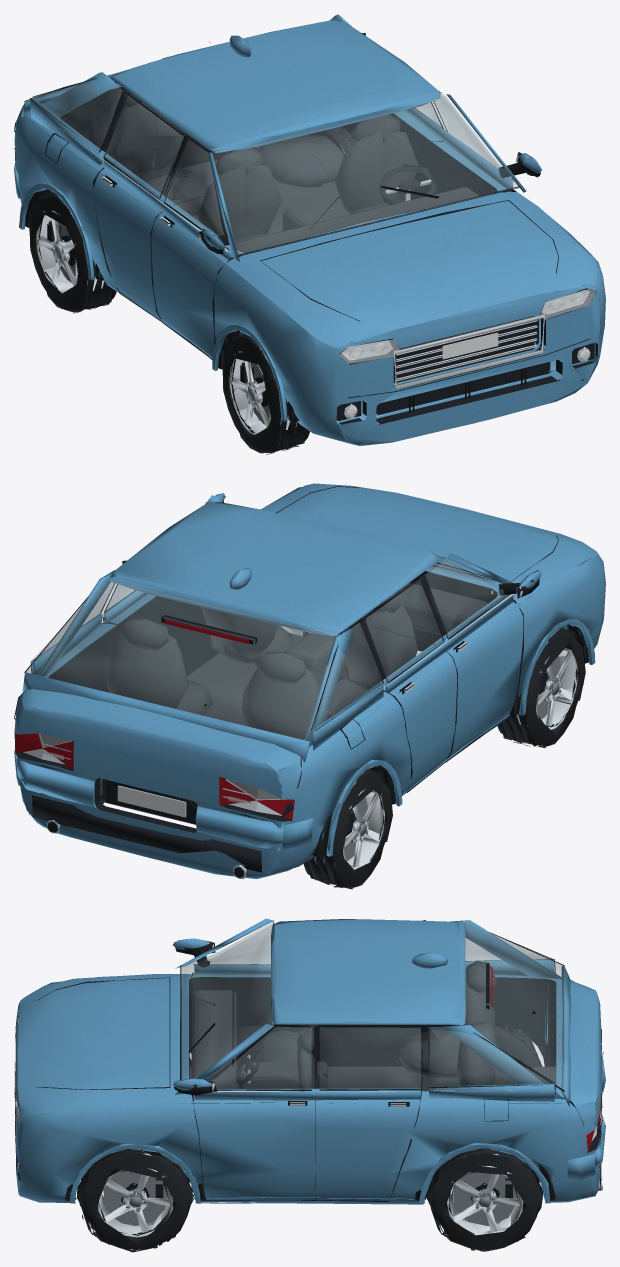
The model's file is far.glb.
3 renders of one model, top to bottom at view 1: azimuth 30°, elevation 25°; view 2: azimuth 150°, elevation 25°; view 3: azimuth 270°, elevation 25°, orthographic. The views are drawn at different scales.
Visible parts, largest first — view 1: Body:paint, Body:glass, Body:interior, Body:black, Body:chrome, Wheel0:rubber, Wheel2:rubber, Wheel2:chrome, Wheel0:chrome, Body:frontlamp, Body:white; view 2: Body:paint, Body:glass, Body:interior, Body:black, Wheel2:rubber, Wheel0:rubber, Body:chrome, Wheel0:chrome, Wheel2:chrome, Body:redlens, Body:white; view 3: Body:paint, Body:glass, Body:black, Body:interior, Wheel1:rubber, Wheel3:rubber, Wheel3:chrome, Wheel1:chrome, Wheel1:steel, Wheel3:steel, Wheel2:rubber, Body:chrome.
Part boxes in pixels (x1,y1,x2,y2): Body:paint: (14, 14, 605, 445); Body:glass: (25, 18, 518, 255); Body:interior: (104, 88, 478, 312); Body:black: (14, 18, 597, 424); Body:chrome: (40, 113, 589, 418); Wheel0:rubber: (222, 333, 309, 454); Wheel2:rubber: (29, 191, 116, 313); Wheel2:chrome: (36, 208, 103, 293); Wheel0:chrome: (229, 348, 297, 434); Body:frontlamp: (339, 289, 595, 363); Body:white: (442, 332, 498, 359); Body:paint: (14, 483, 605, 878); Body:glass: (26, 501, 506, 740); Body:interior: (100, 582, 487, 824); Body:black: (14, 486, 588, 877); Wheel2:rubber: (303, 768, 392, 889); Wheel0:rubber: (497, 627, 585, 748); Body:chrome: (23, 586, 522, 879); Wheel0:chrome: (510, 641, 577, 729); Wheel2:chrome: (314, 781, 384, 869); Body:redlens: (15, 732, 294, 820); Body:white: (117, 785, 186, 817); Body:paint: (15, 918, 605, 1204); Body:glass: (181, 922, 563, 1089); Body:black: (15, 920, 603, 1203); Body:interior: (184, 960, 561, 1182); Wheel1:rubber: (77, 1148, 194, 1252); Wheel3:rubber: (426, 1148, 543, 1251); Wheel3:chrome: (447, 1154, 523, 1235); Wheel1:chrome: (98, 1151, 173, 1237); Wheel1:steel: (102, 1171, 171, 1225); Wheel3:steel: (451, 1172, 521, 1226); Wheel2:rubber: (494, 1022, 541, 1068); Body:chrome: (15, 944, 602, 1190).
Bounding box in the file's own units: 2.04 × 1.56 × 3.56.
12 materials, 12 textured.
